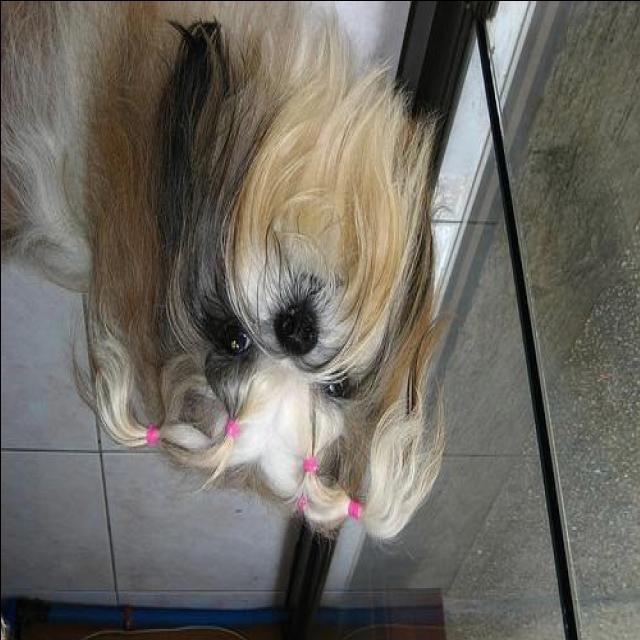shih_tzu: (1, 2, 447, 540)
